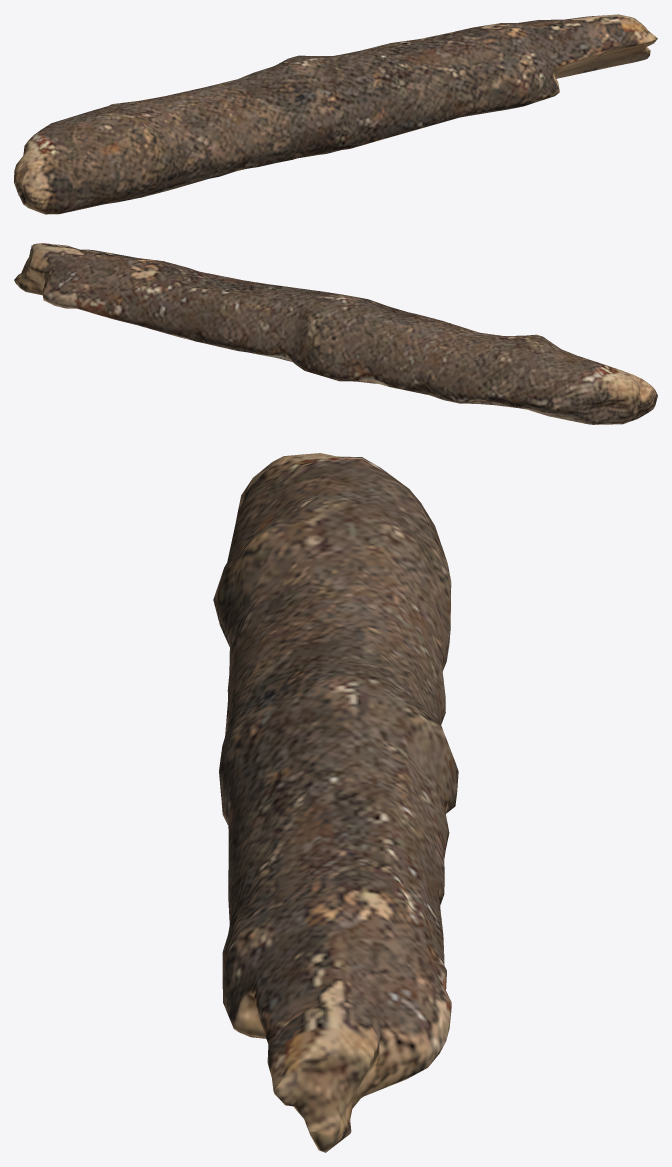
File: SM_For_Sca_Stick_Set_02_C.gltf
The picture shows the model from 3 angles, top to bottom: view 1: azimuth 30°, elevation 25°; view 2: azimuth 150°, elevation 25°; view 3: azimuth 270°, elevation 25°; orthographic projection. The views are drawn at different scales.
Visible parts, largest first — view 1: SM_For_Sca_Stick_Set_02_C; view 2: SM_For_Sca_Stick_Set_02_C; view 3: SM_For_Sca_Stick_Set_02_C.
Part boxes in pixels (x1,y1,x2,y2): SM_For_Sca_Stick_Set_02_C: (14, 14, 657, 214); SM_For_Sca_Stick_Set_02_C: (14, 243, 657, 424); SM_For_Sca_Stick_Set_02_C: (213, 453, 458, 1152).
Bounding box in the file's own units: 0.1802 × 0.0203 × 0.0306.
1 material, 1 textured.
